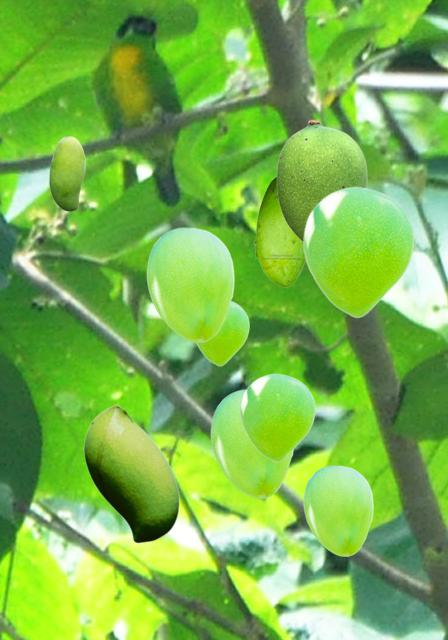green_mango: (303, 186, 413, 317), (83, 404, 178, 542), (276, 119, 366, 242), (146, 227, 233, 341), (210, 389, 293, 497), (240, 373, 314, 461), (303, 465, 372, 555), (254, 176, 305, 286), (195, 301, 248, 365), (49, 136, 84, 210)
